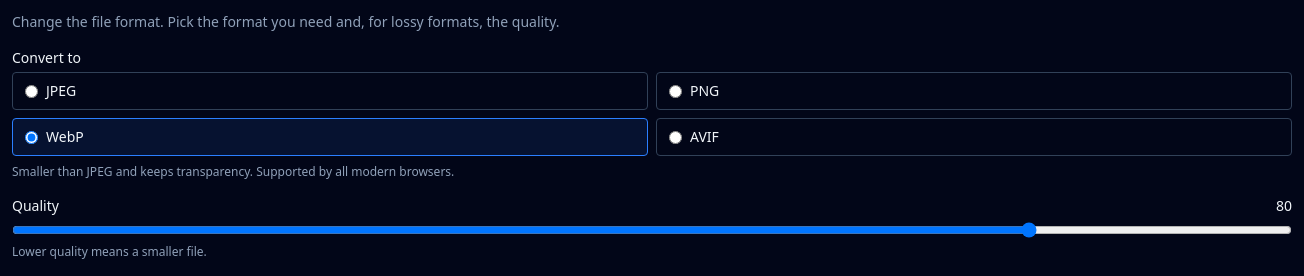
Test: convert panel › shows the quality slider for lossy formats and updates the value
Set the slider labelled "Quality" to "55" at (709, 230), box [12,222,1292,238]
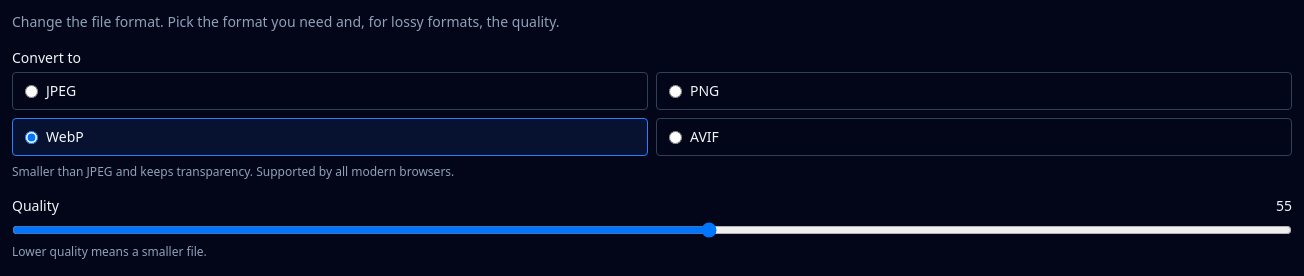
Expected: the text "55" is shown, [1276,196,1292,216]
